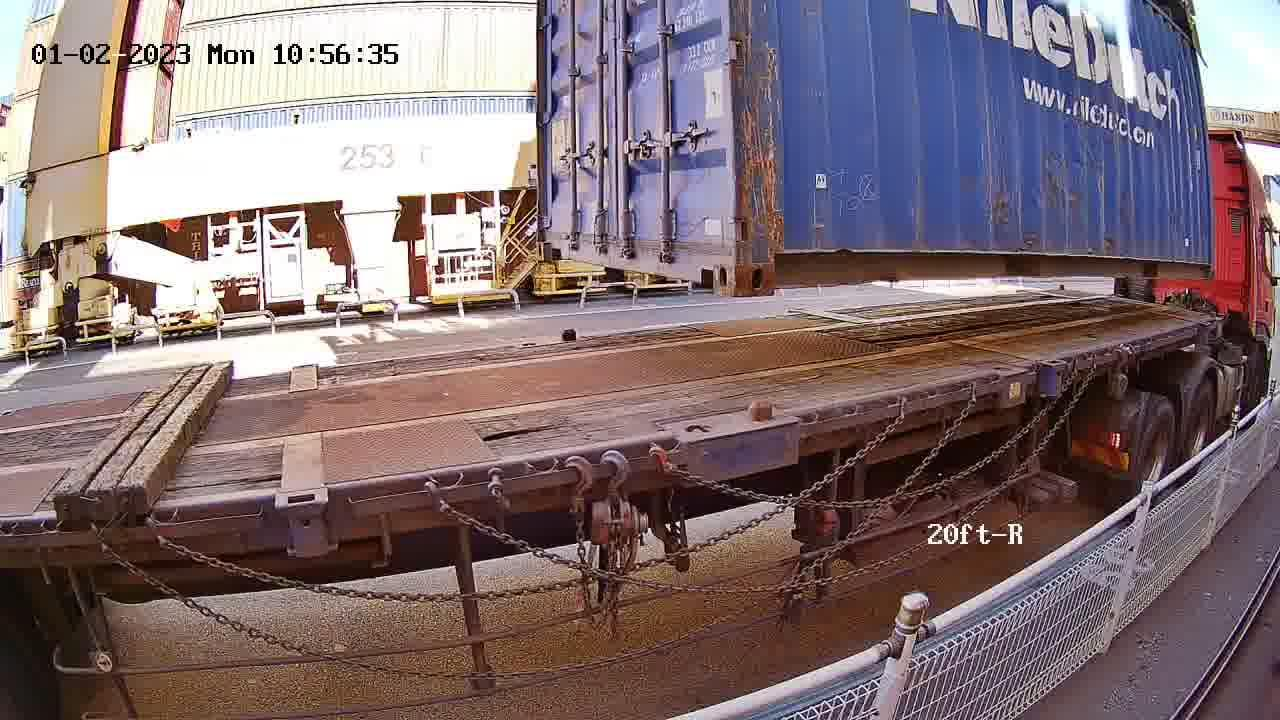Chassis: (556, 336, 788, 430), (518, 339, 728, 442)
Cone: (678, 419, 728, 480), (746, 397, 778, 471), (556, 323, 582, 344)
Hole_L: (736, 223, 818, 297), (536, 214, 574, 261)
Hole_R: (687, 223, 734, 299)
Tire: (1136, 400, 1177, 500), (1185, 382, 1218, 467)
